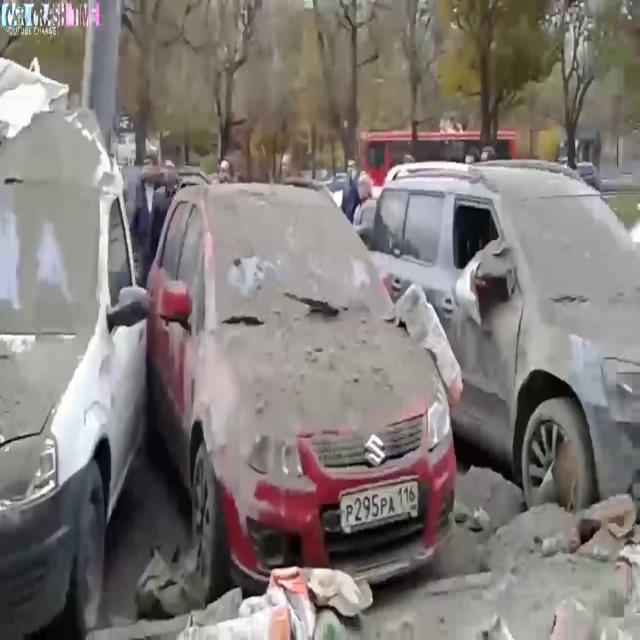Accident: (172, 137, 460, 592), (0, 0, 128, 347)
